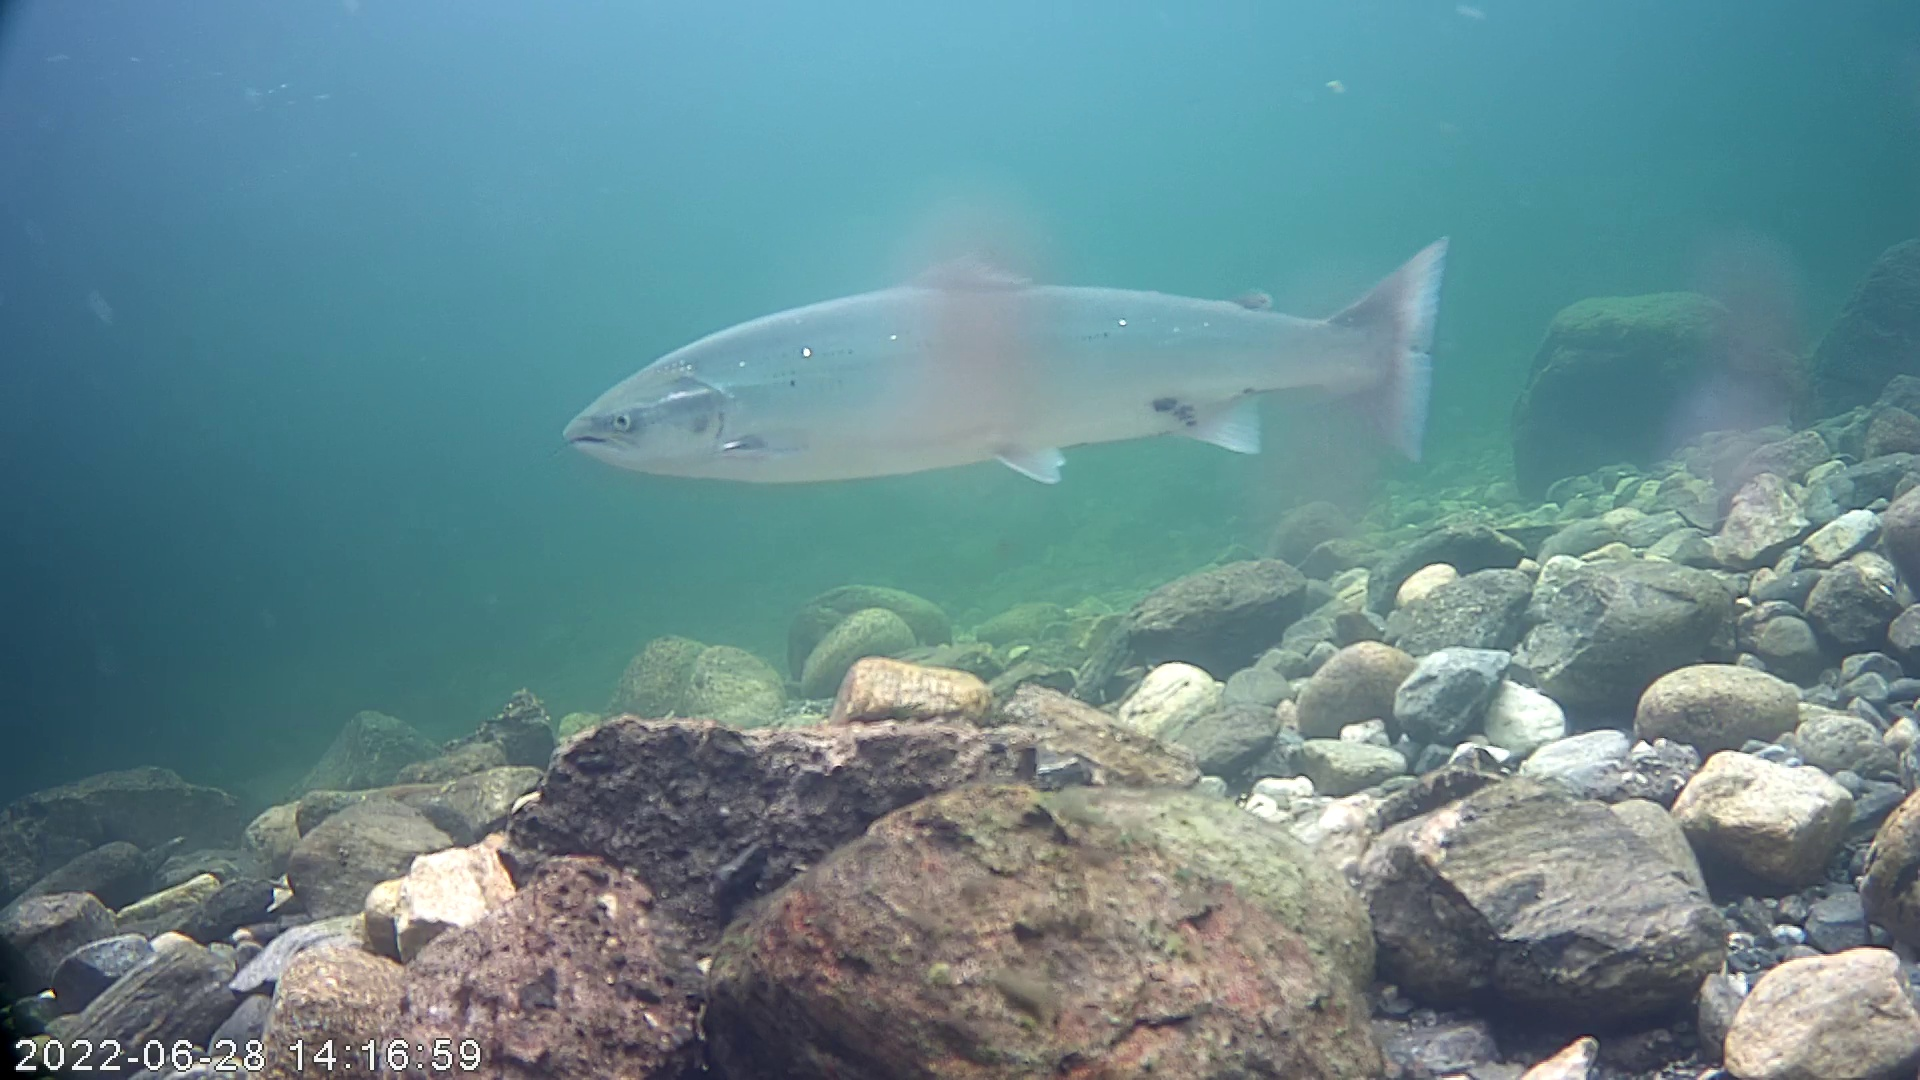salmon: (551, 135, 1455, 568)
